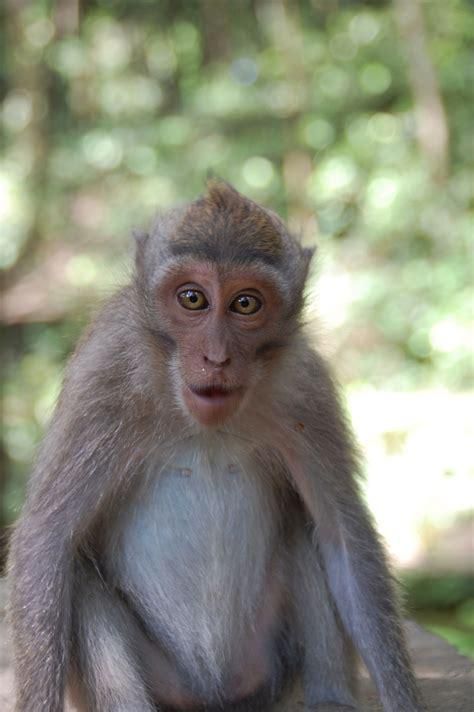monkey: (8, 194, 419, 712)
